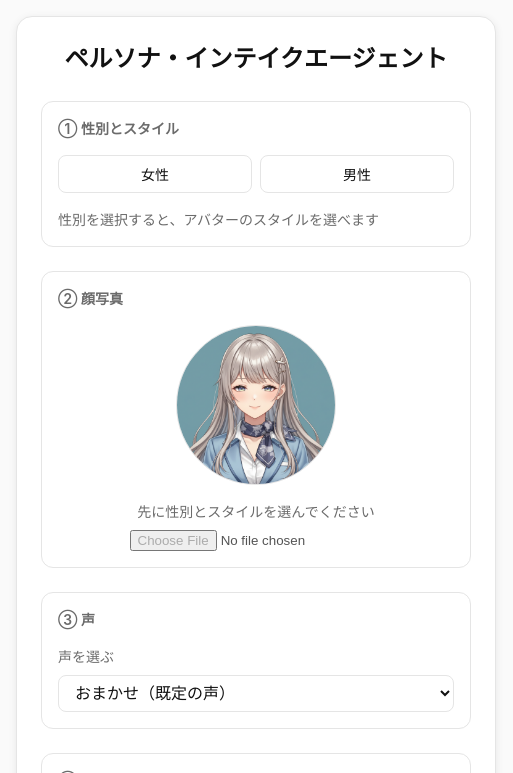
Test: AvatarPanel › only shows styles for the selected gender, and requires a gender first
Expected: the radio button labelled "Manga Mood" is not shown
Click the radio button labelled "女性" at (155, 174), box top-left (58, 155), bottom-right (252, 193)
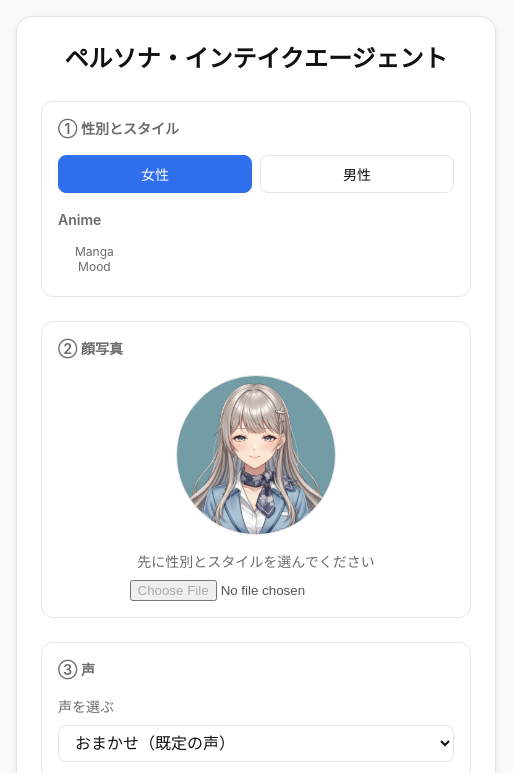
Result: the radio button labelled "Manga Mood" is shown at top-left (58, 238), bottom-right (131, 280)
